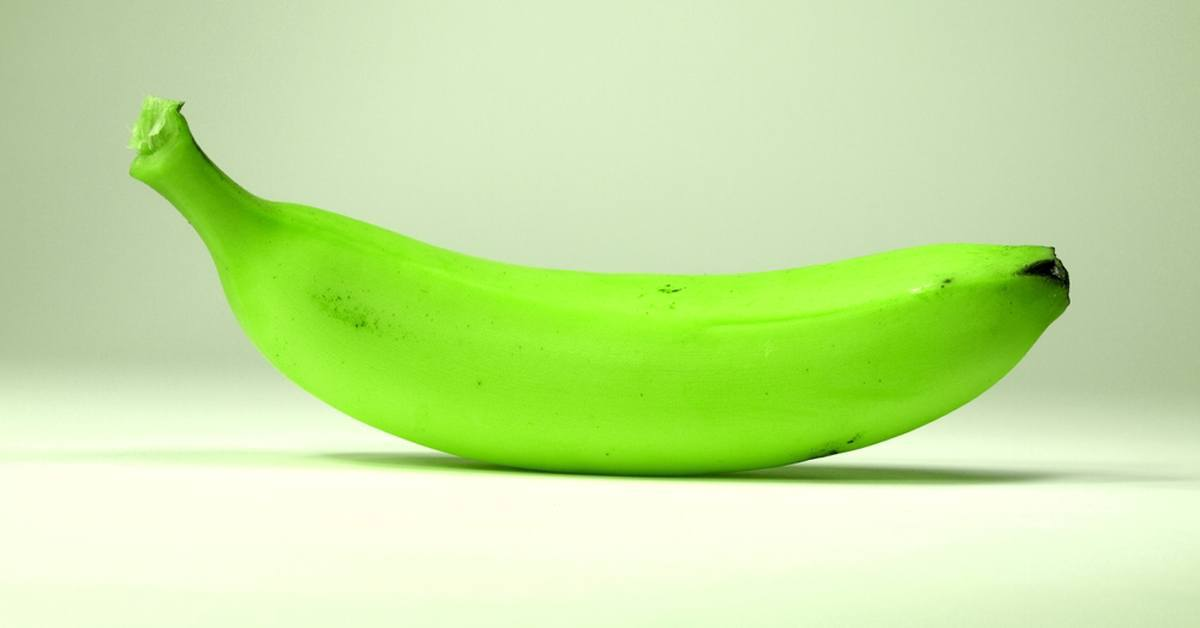banana: (72, 57, 1119, 490)
